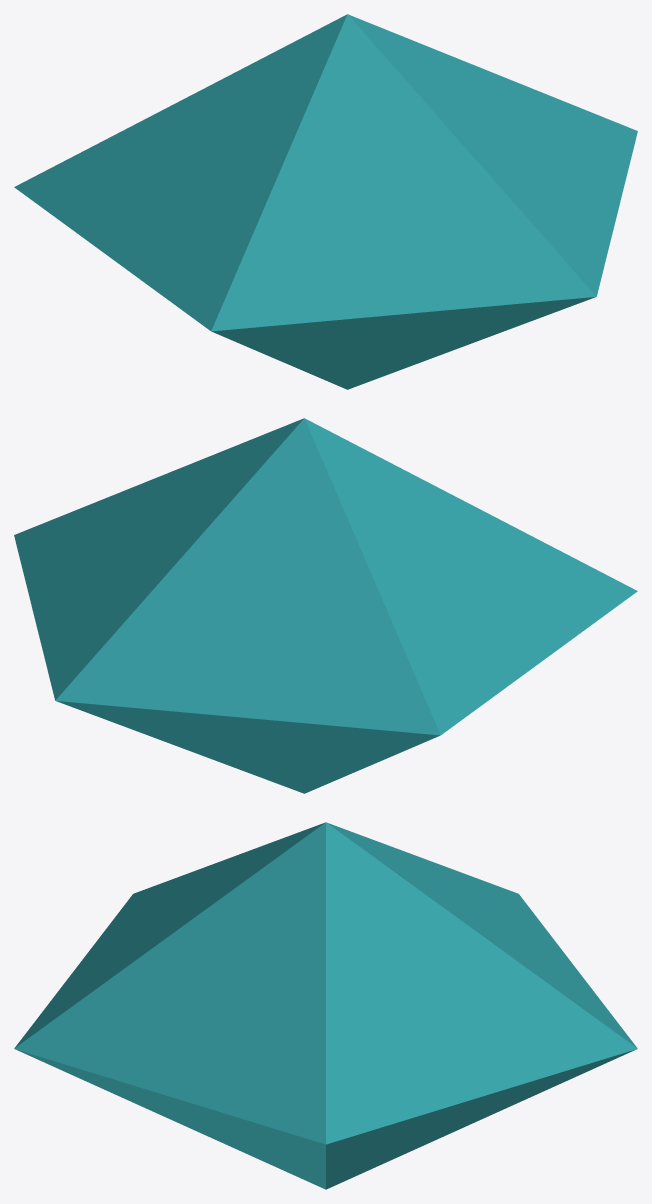
Rendered from J13.BipiramidePentagonal.gltf.
3 renders of one model, top to bottom at view 1: azimuth 30°, elevation 25°; view 2: azimuth 150°, elevation 25°; view 3: azimuth 270°, elevation 25°, orthographic. The views are drawn at different scales.
Visible parts, largest first — view 1: J13. BipiramidePentagonal; view 2: J13. BipiramidePentagonal; view 3: J13. BipiramidePentagonal.
Part boxes in pixels (x1,y1,x2,y2): J13. BipiramidePentagonal: (14,14,637,389); J13. BipiramidePentagonal: (14,418,637,793); J13. BipiramidePentagonal: (14,822,637,1189).
Size of the model in its own units: 18.09 by 12.36 by 19.02.
